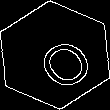O_NW: (20, 22, 90, 88)
